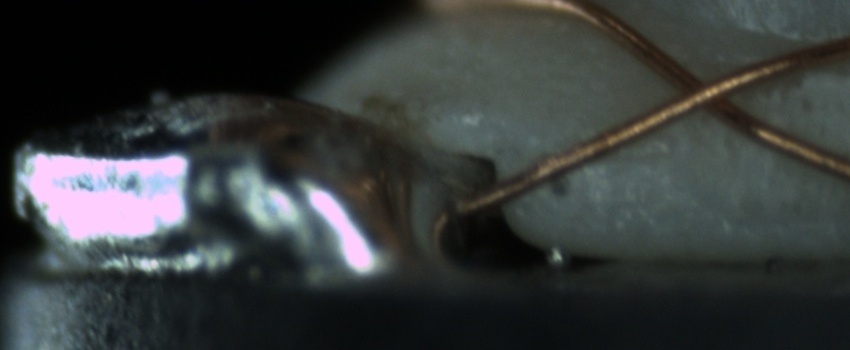CL: (654, 56, 758, 125)
DL: (586, 128, 676, 183)
